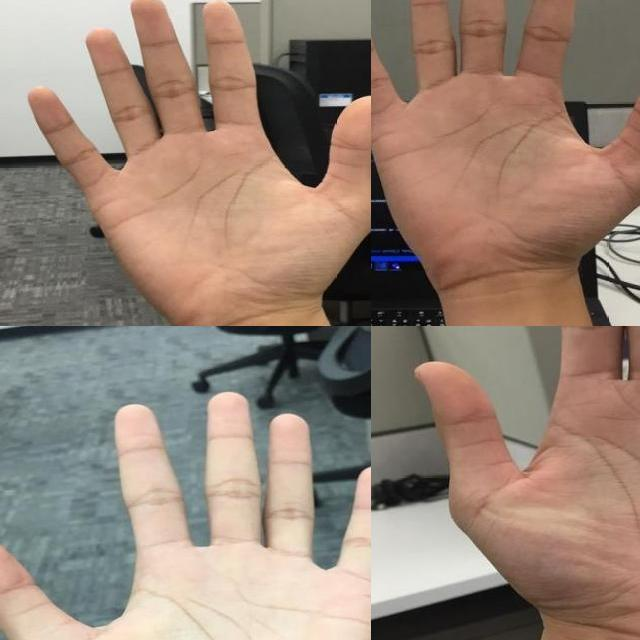no-gloves: (22, 0, 371, 326), (0, 384, 371, 640), (371, 0, 640, 290), (399, 326, 640, 640)
